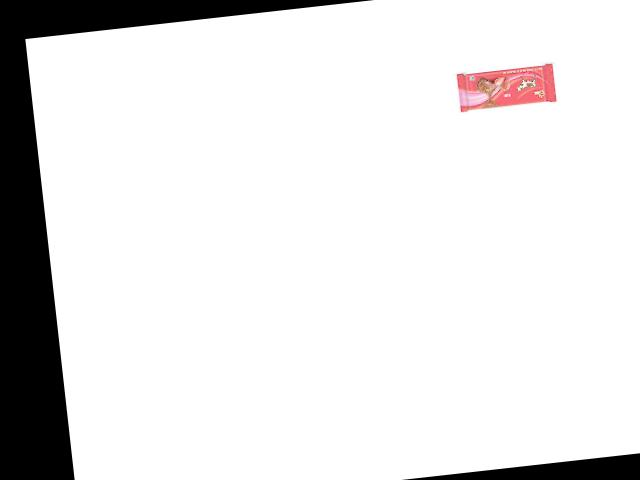chocolate: (455, 55, 564, 111)
